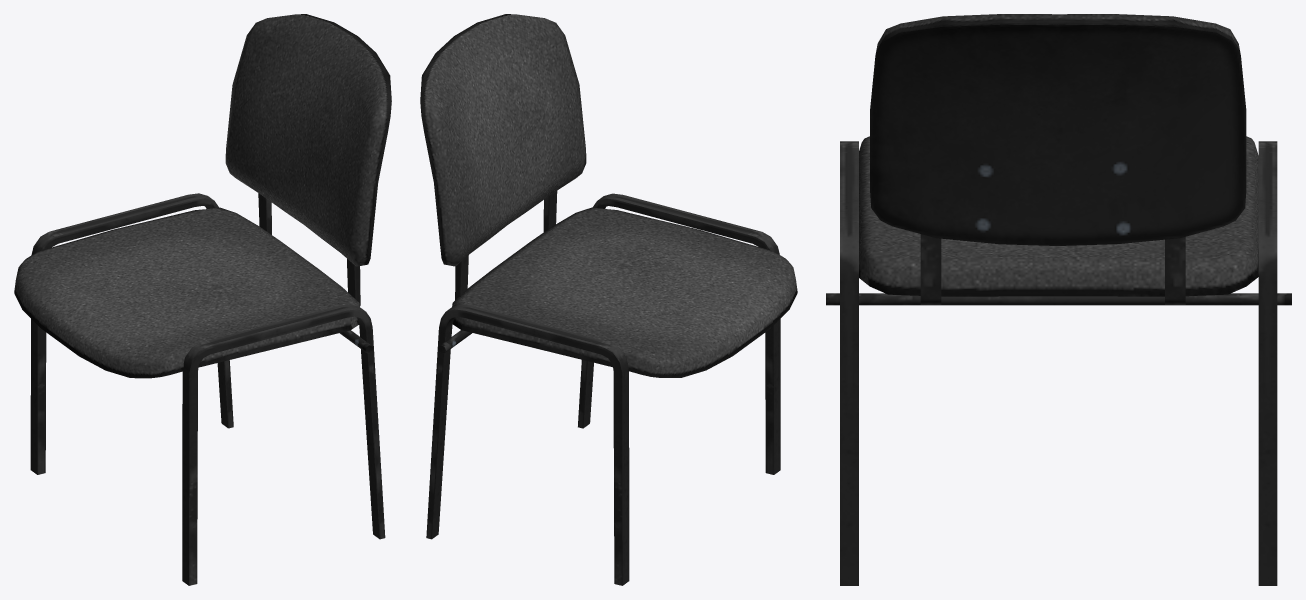
The model's file is HH_Office_Chair.fbx.
3 views of the same model, side by side, from view 1: azimuth 30°, elevation 25°; view 2: azimuth 150°, elevation 25°; view 3: azimuth 270°, elevation 25° (orthographic). The views are drawn at different scales.
Visible parts, largest first — view 1: HH_Office_Chair_LOD0; view 2: HH_Office_Chair_LOD0; view 3: HH_Office_Chair_LOD0.
Part boxes in pixels (left/top/right/bottom): HH_Office_Chair_LOD0: left=14, top=14, right=391, bottom=585; HH_Office_Chair_LOD0: left=420, top=14, right=797, bottom=585; HH_Office_Chair_LOD0: left=826, top=14, right=1291, bottom=585.
Size of what is drawn, in the model's own units: 75.29 by 105 by 73.83.
